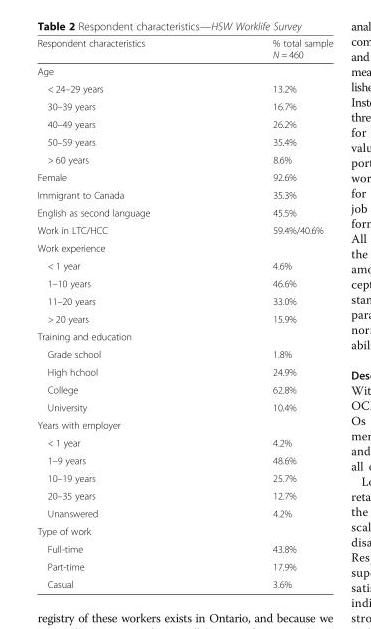table: (36, 37, 332, 589)
table column: (36, 37, 210, 589), (210, 37, 332, 589)
table column header: (36, 37, 332, 62)
table projected row header: (36, 238, 332, 256), (36, 327, 332, 345), (36, 415, 332, 433), (36, 62, 332, 79), (36, 522, 332, 539)
table row: (36, 37, 332, 62), (36, 79, 332, 97), (36, 97, 332, 115), (36, 132, 332, 150), (36, 150, 332, 168), (36, 185, 332, 203), (36, 203, 332, 221), (36, 238, 332, 256), (36, 256, 332, 274), (36, 291, 332, 309), (36, 309, 332, 327), (36, 327, 332, 345), (36, 362, 332, 380), (36, 380, 332, 398), (36, 415, 332, 433), (36, 433, 332, 451), (36, 468, 332, 486), (36, 486, 332, 504), (36, 504, 332, 522), (36, 539, 332, 557), (36, 557, 332, 575), (36, 62, 332, 79), (36, 115, 332, 132), (36, 168, 332, 185), (36, 221, 332, 238), (36, 274, 332, 291), (36, 345, 332, 362), (36, 398, 332, 415), (36, 451, 332, 468), (36, 522, 332, 539), (36, 575, 332, 589)
